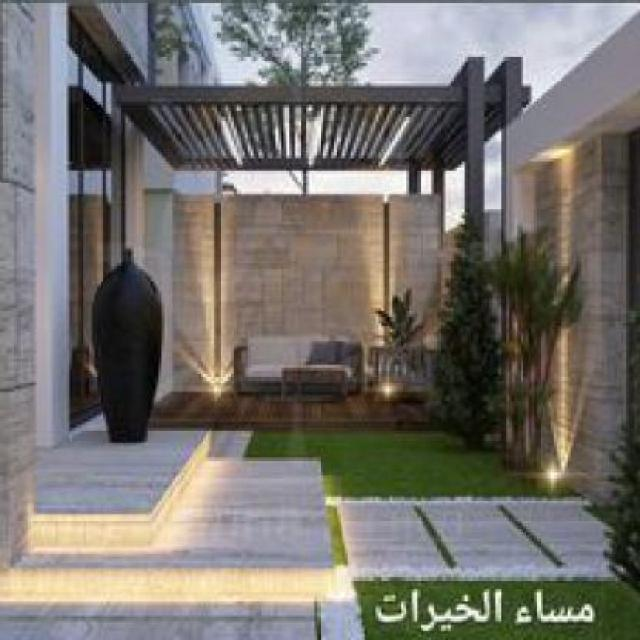stair: (50, 420, 367, 612)
